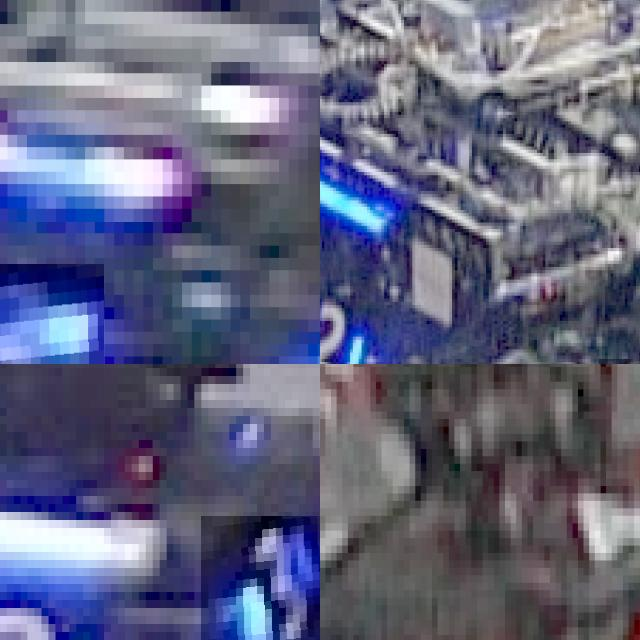B2: (0, 264, 104, 364), (320, 302, 372, 364)
B3: (201, 516, 320, 640)
